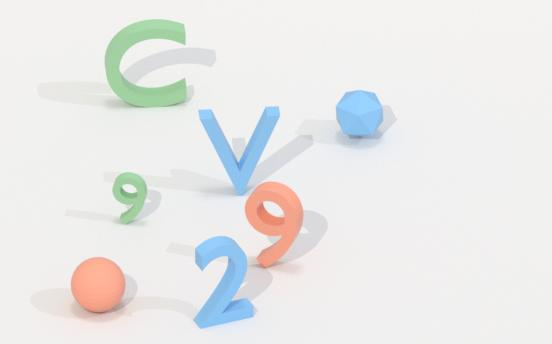2: (191, 238, 259, 329)
9: (243, 184, 307, 271), (109, 172, 152, 225)
c: (95, 19, 207, 112)
cau: (69, 256, 132, 314)
dagiac: (332, 89, 389, 140)
v: (197, 103, 282, 195)
